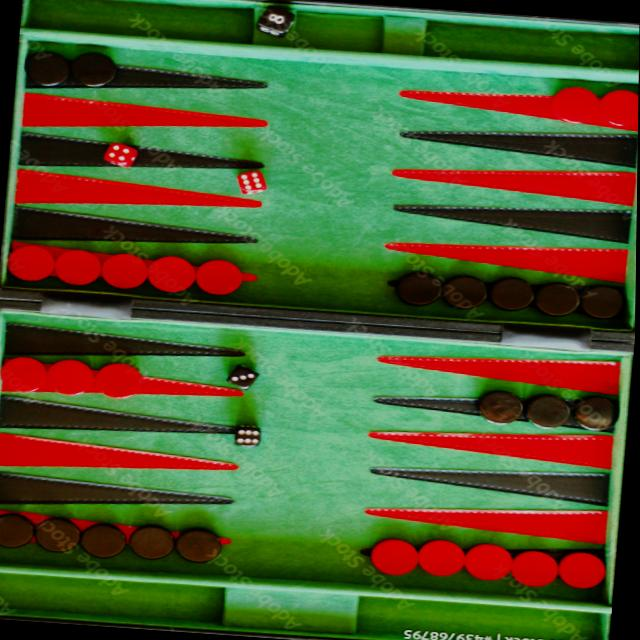bar: (8, 285, 620, 354)
board: (0, 26, 640, 609)
dark_p: (66, 46, 118, 90), (439, 270, 492, 310), (129, 520, 179, 562), (395, 265, 446, 306), (22, 46, 70, 88), (525, 388, 574, 429), (578, 280, 628, 320), (36, 513, 86, 552), (81, 519, 131, 558), (177, 523, 225, 563), (573, 390, 621, 430), (534, 280, 582, 318), (479, 389, 527, 426), (489, 274, 538, 310), (0, 508, 39, 549)
dice: (251, 1, 301, 38), (230, 167, 272, 196), (100, 140, 142, 168), (231, 420, 268, 450), (226, 360, 262, 390)
light_p: (365, 530, 423, 578), (548, 81, 606, 127), (557, 546, 613, 592), (461, 540, 519, 584), (4, 236, 55, 283), (143, 250, 197, 294), (415, 534, 468, 578), (99, 246, 149, 291), (49, 244, 103, 285), (510, 546, 561, 589), (195, 254, 247, 296), (95, 358, 148, 399), (44, 356, 95, 397), (0, 356, 49, 394), (597, 85, 639, 128)
